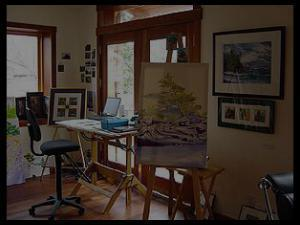Otro Obstaculo: (143, 40, 208, 217)
Puerta: (100, 29, 189, 200)
